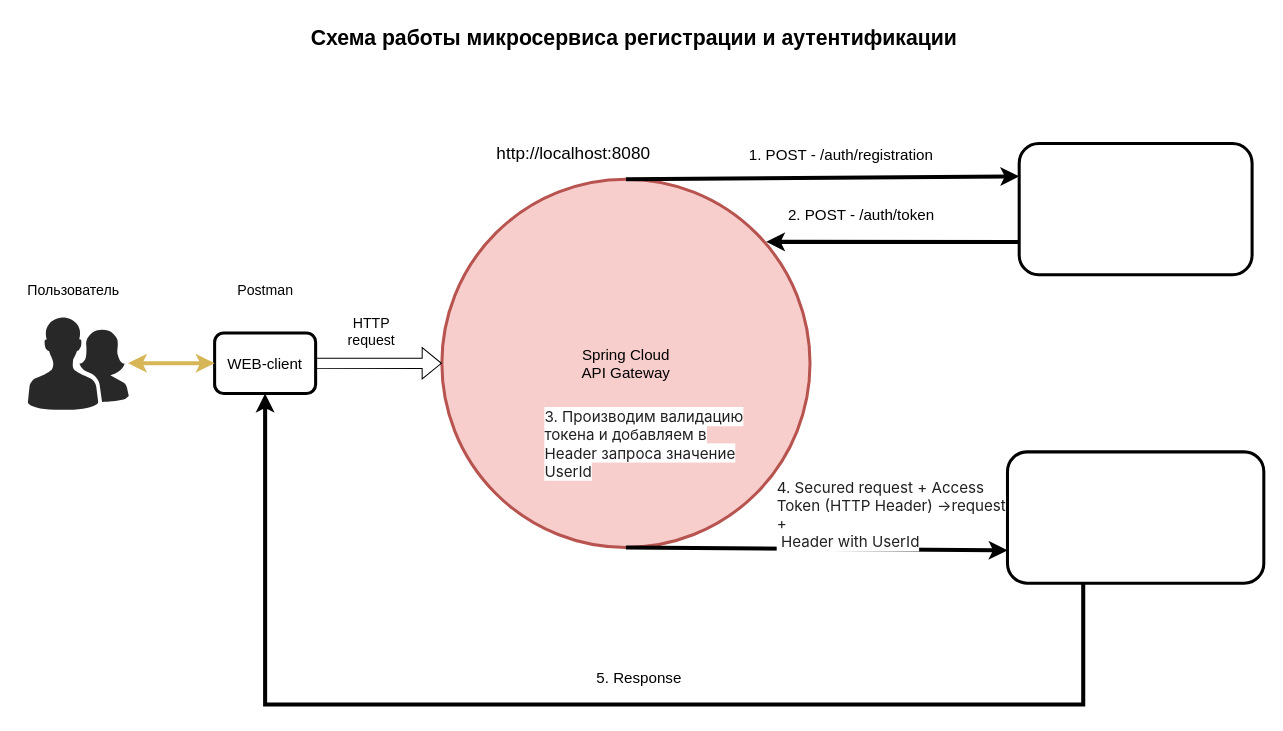
Image size: 1283x731. Some labels were removed from this diagram. The centre of each missing label's shape, as x and y in pixels:
"Микросервис процессинга - Exchange-processing-service" belongs at pixel 1135 517.
"Микросервис регистрации и аутентификации - Identity-service" belongs at pixel 1135 209.
